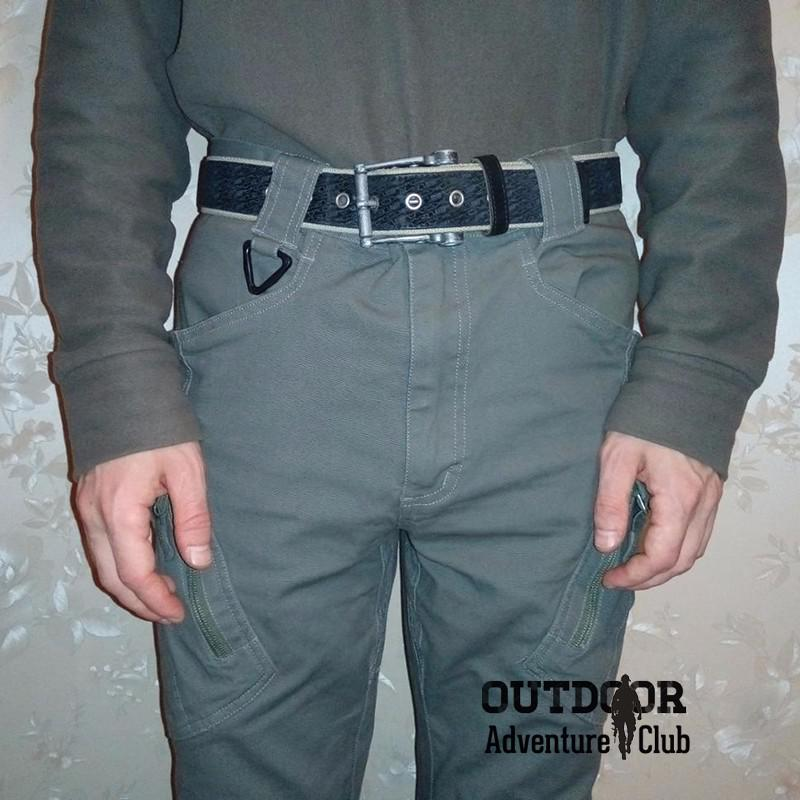pants: (157, 161, 631, 800)
